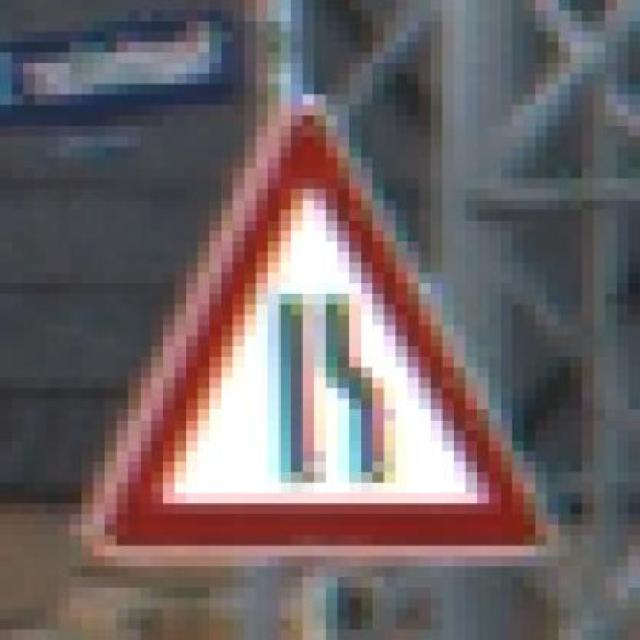-Road narrows on right: (66, 86, 566, 580)
